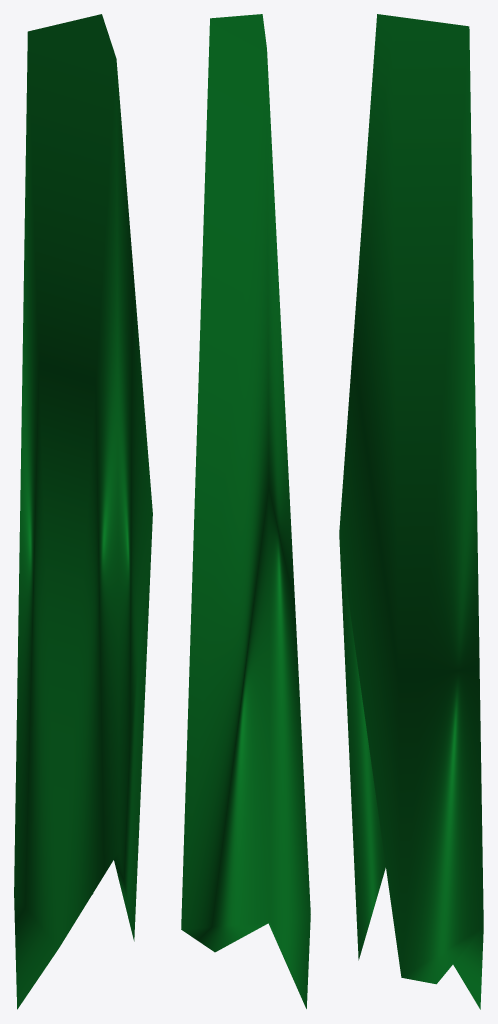
The model's file is SeguaroCactusMedium1_LOD3.obj.
The picture shows the model from 3 angles, left to right: view 1: azimuth 90°, elevation 25°; view 2: azimuth 210°, elevation 25°; view 3: azimuth 270°, elevation 25°; orthographic projection. The views are drawn at different scales.
Visible parts, largest first — view 1: SeguaroCactusMedium1_LOD3; view 2: SeguaroCactusMedium1_LOD3; view 3: SeguaroCactusMedium1_LOD3.
Boxes of the visible parts, bbox=[...] form: SeguaroCactusMedium1_LOD3: bbox=[14, 14, 152, 1009]; SeguaroCactusMedium1_LOD3: bbox=[181, 14, 310, 1008]; SeguaroCactusMedium1_LOD3: bbox=[339, 14, 483, 1009].
Bounding box in the file's own units: 28.1 × 232 × 30.15.
